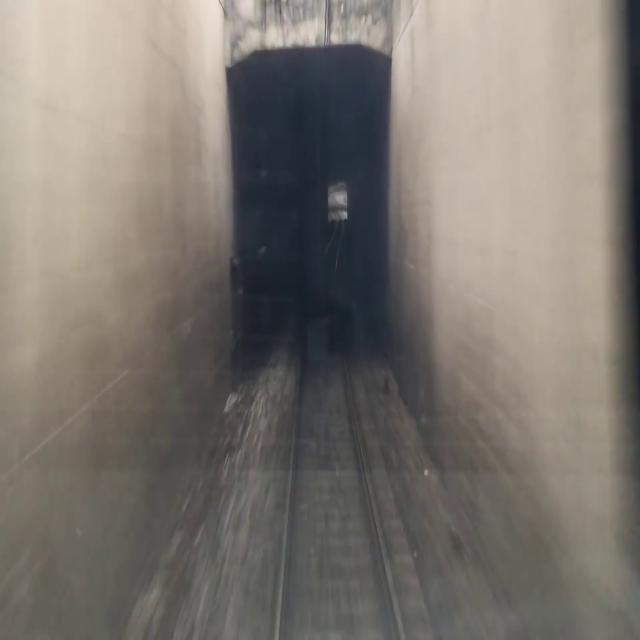rail-track: (277, 207, 401, 639)
